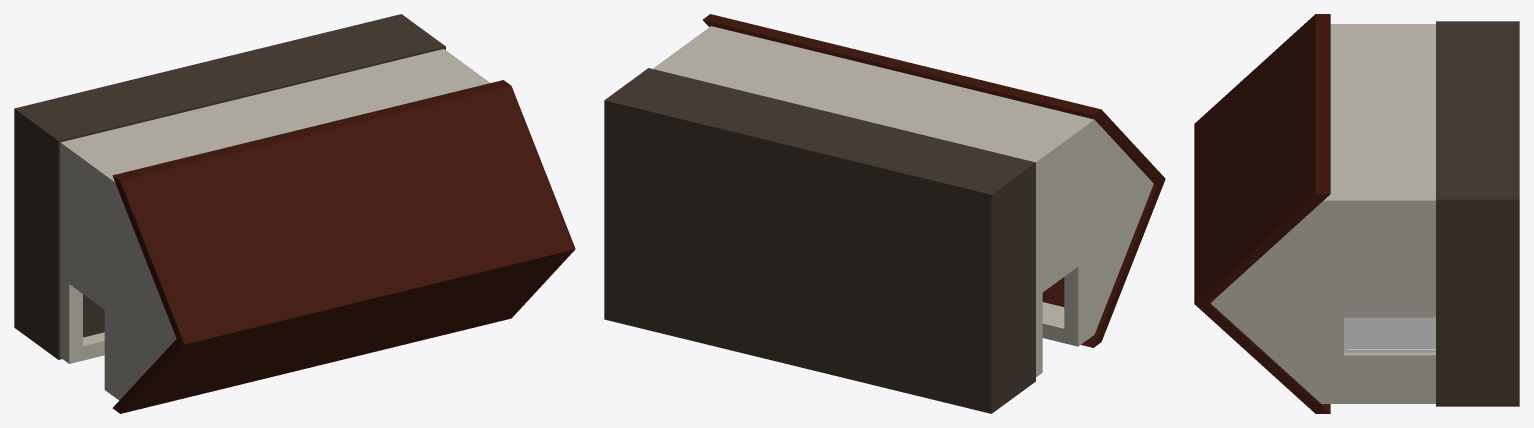
The model's file is OpenHouse2x3-keep-relevant-only.obj.
3 views of the same model, side by side, from view 1: azimuth 30°, elevation 25°; view 2: azimuth 150°, elevation 25°; view 3: azimuth 270°, elevation 25° (orthographic). The views are drawn at different scales.
Visible parts, largest first — view 1: North roof, Footing, South roof, North wall, West wall, South wall; view 2: Footing, North wall, West wall, North roof, South roof, South wall; view 3: Footing, East wall, North roof, North wall, object 8, South roof, South wall.
Part boxes in pixels (x1,y1,x2,y2): North roof: (112,80,575,344); Footing: (14,14,445,359); South roof: (112,249,574,413); North wall: (60,49,489,202); West wall: (60,150,176,395); South wall: (60,332,126,400); Footing: (604,68,1035,413); North wall: (653,26,1100,176); West wall: (1036,124,1153,362); North roof: (702,14,1165,184); South roof: (1042,179,1165,347); South wall: (1036,302,1100,377); Footing: (1436,21,1519,406); East wall: (1210,208,1435,393); North roof: (1194,14,1330,303); North wall: (1310,24,1435,214); object 8: (1344,317,1435,352); South roof: (1194,303,1330,413); South wall: (1310,390,1435,403).
Bounding box in the file's own units: 10.2 × 5.8 × 7.78.
